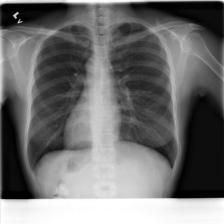normal: (29, 23, 180, 182)
